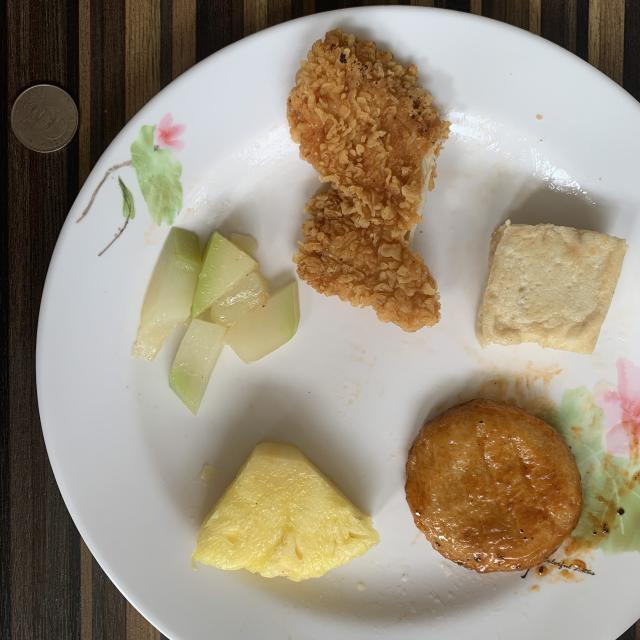coin: (11, 85, 79, 152)
creamy tofu -without sauce-: (476, 220, 628, 354)
fish cake: (405, 399, 582, 572)
fried chicken cutlet: (288, 29, 450, 331)
pineapple: (191, 441, 379, 581)
